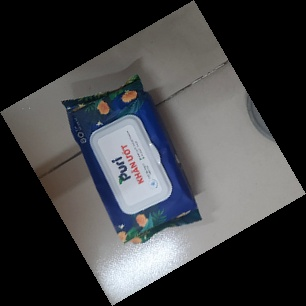Puri Xanh: (61, 74, 206, 247)
